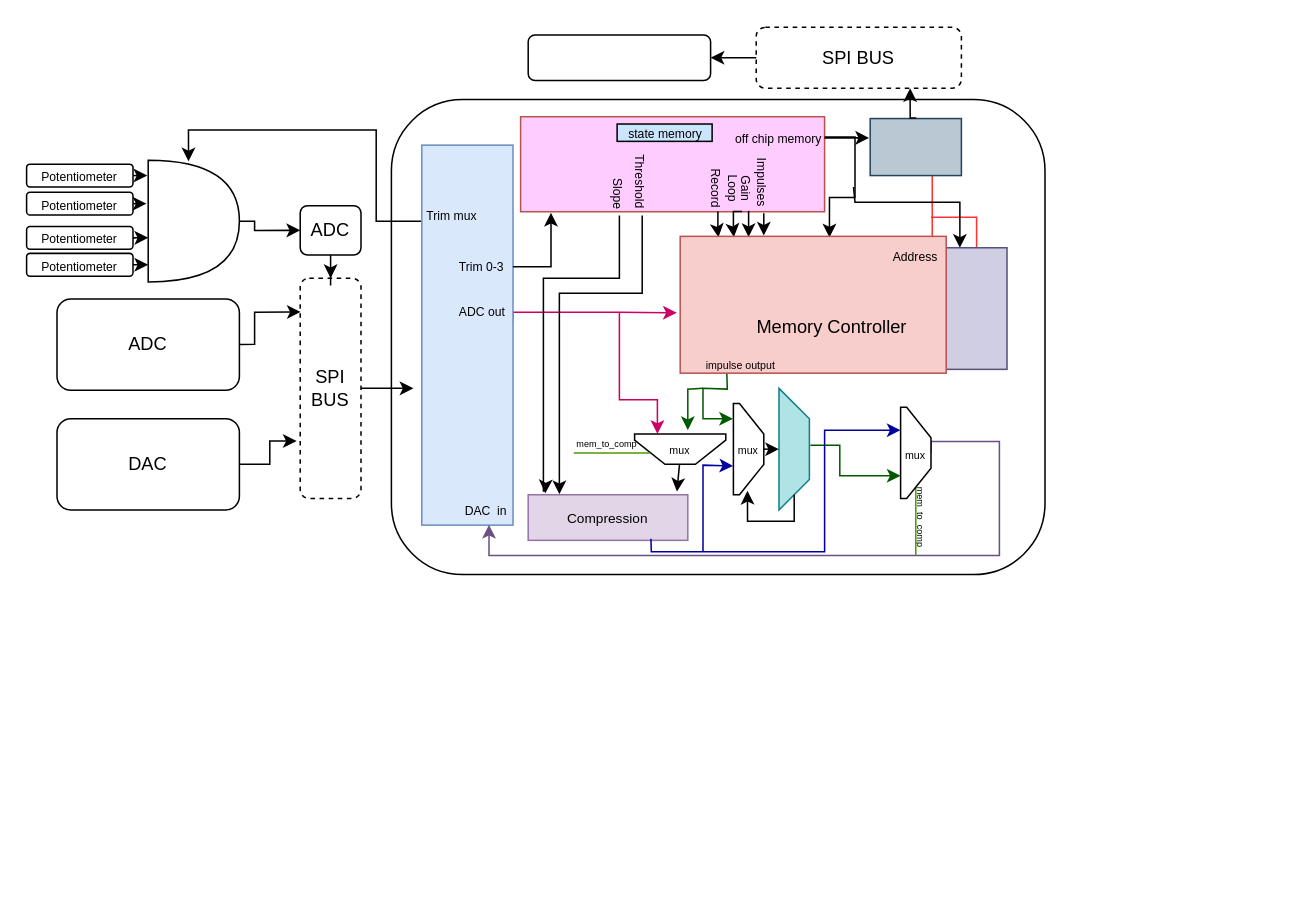
The diagram is 1315 pixels wide and 920 high, and some of its shapes have lost their labels. Here are the shapes that lost their labels. From the top down, the box of each, then its label:
(527, 33, 711, 81): Off Chip SRAM
(519, 115, 825, 212): Control
(869, 117, 961, 176): SRAM SPI Controller
(147, 159, 239, 282): Analog Mux
(945, 246, 1007, 369): SRAM
(420, 144, 513, 525): SPI Controller
(777, 387, 809, 510): Adder
